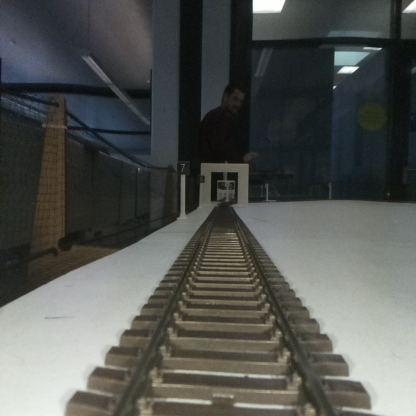black-info-7: (176, 160, 190, 218)
